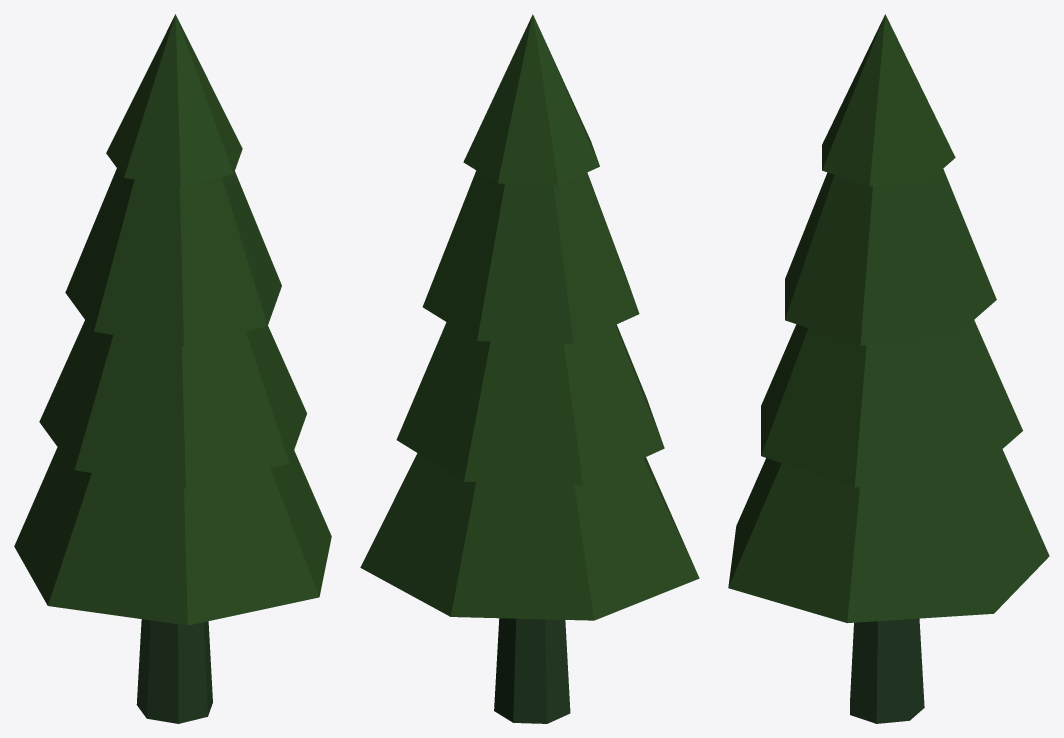
File: tree_V1.fbx
3 views of the same model, side by side, from view 1: azimuth 30°, elevation 25°; view 2: azimuth 150°, elevation 25°; view 3: azimuth 270°, elevation 25° (orthographic).
Visible parts, largest first — view 1: tree; view 2: tree; view 3: tree.
Part boxes in pixels (<box>): tree: <box>14,14,331,723</box>; tree: <box>360,14,699,723</box>; tree: <box>728,14,1049,723</box>.
Bounding box in the file's own units: 411 × 957 × 402.
